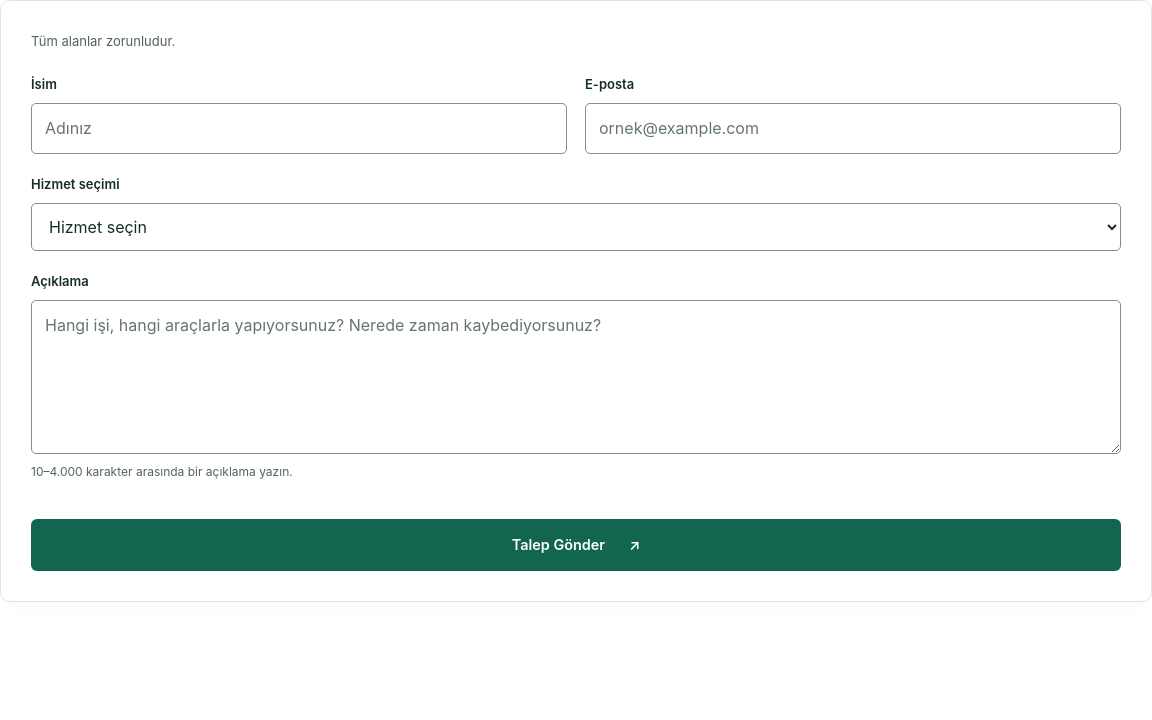
Test: Request form API integration (mocked fetch) › falls back to a general error for unmatched/malformed 400 responses
Type "Sprint Five Test" into the field labelled "İsim" at (299, 128), box [31,103,567,154]
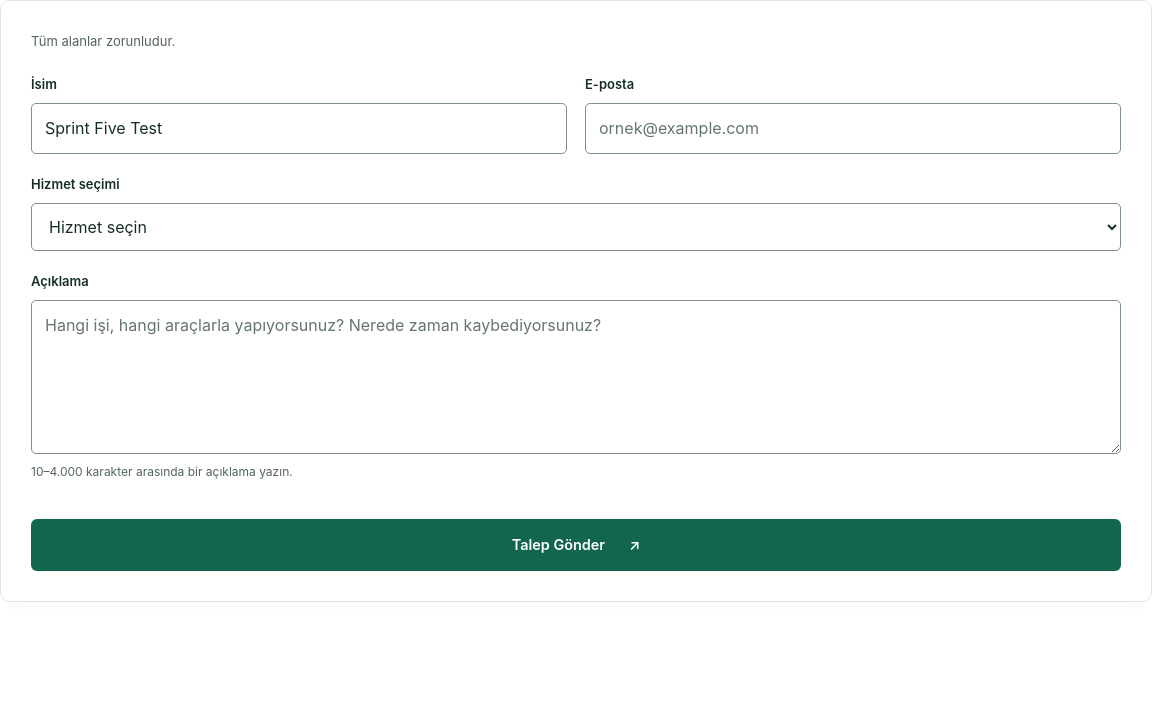
Type "sprint5@example.com" into the field labelled "E-posta" at (853, 128), box [585,103,1121,154]
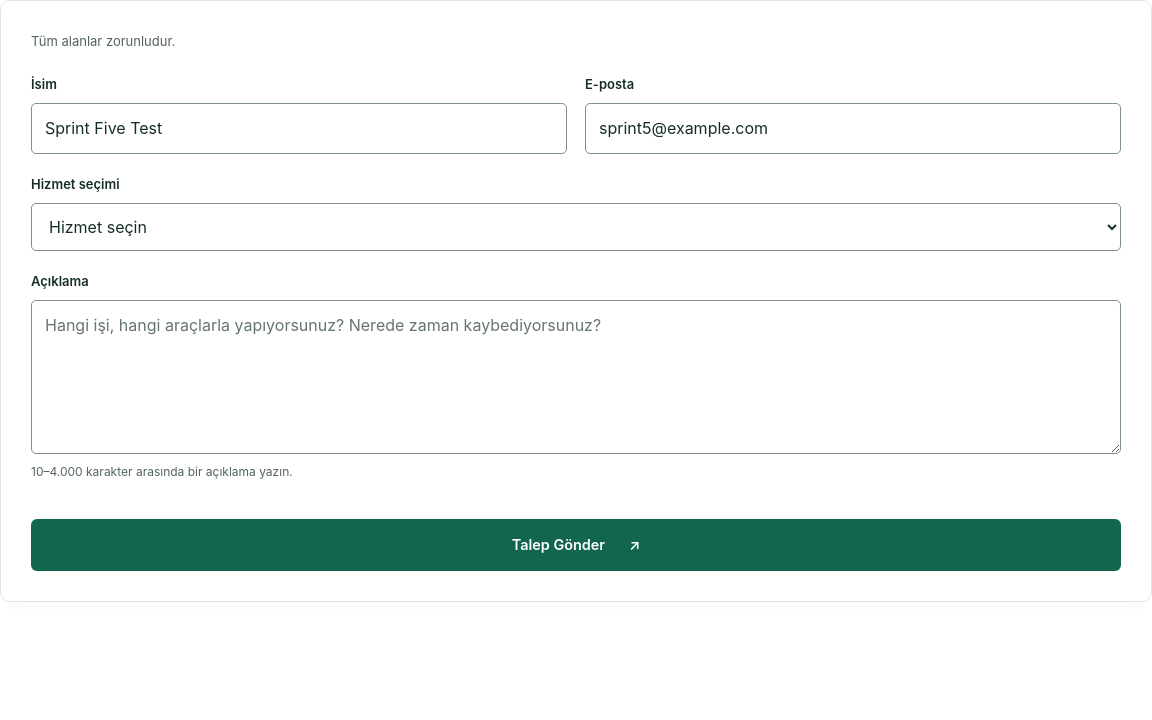
Select "İş Akışı Otomasyonu" in the dropdown labelled "Hizmet seçimi" at (576, 227), box [31,203,1121,251]
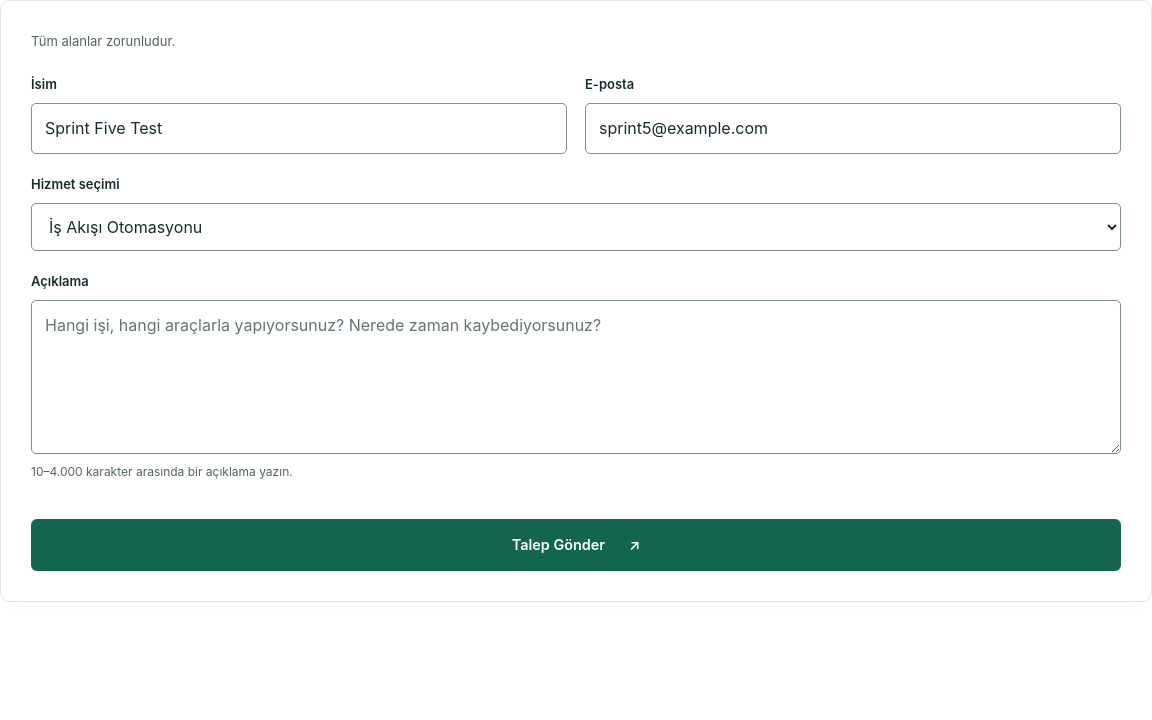
Replace the text in the text box labelled "Açıklama" with "This is a fictional request created for the FlowPilot technical evaluation." at (576, 377), box [31,300,1121,454]
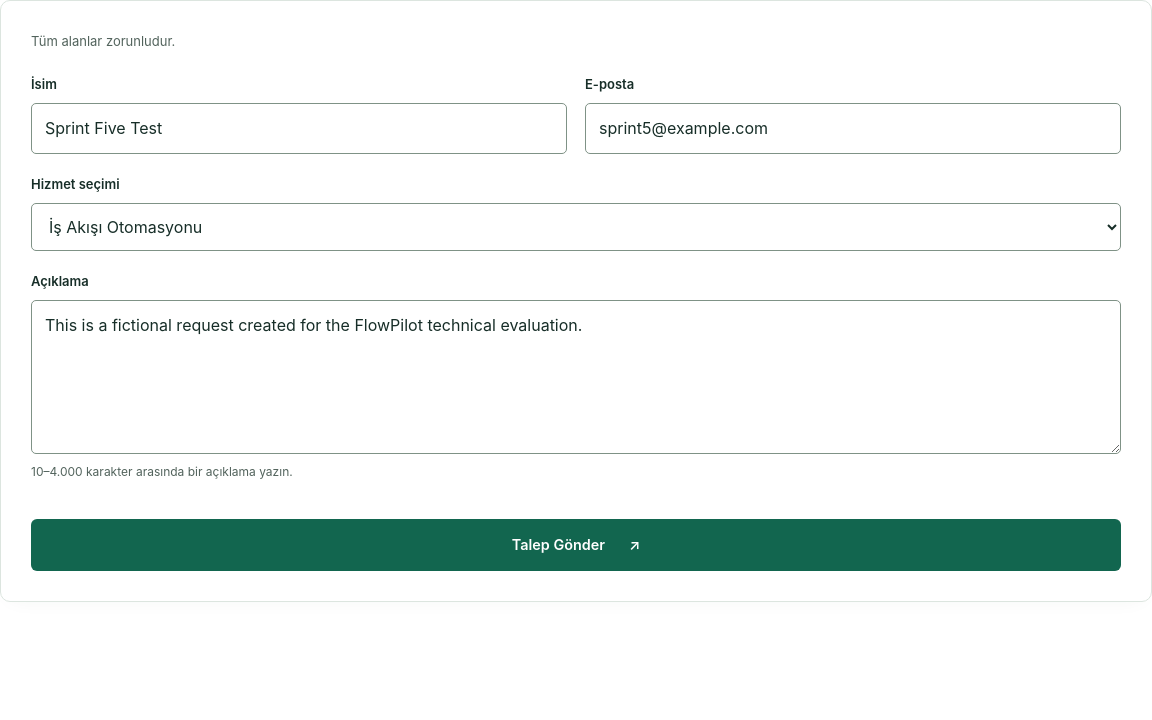
Click the button "Talep Gönder ↗" at (576, 545), box [31,519,1121,571]
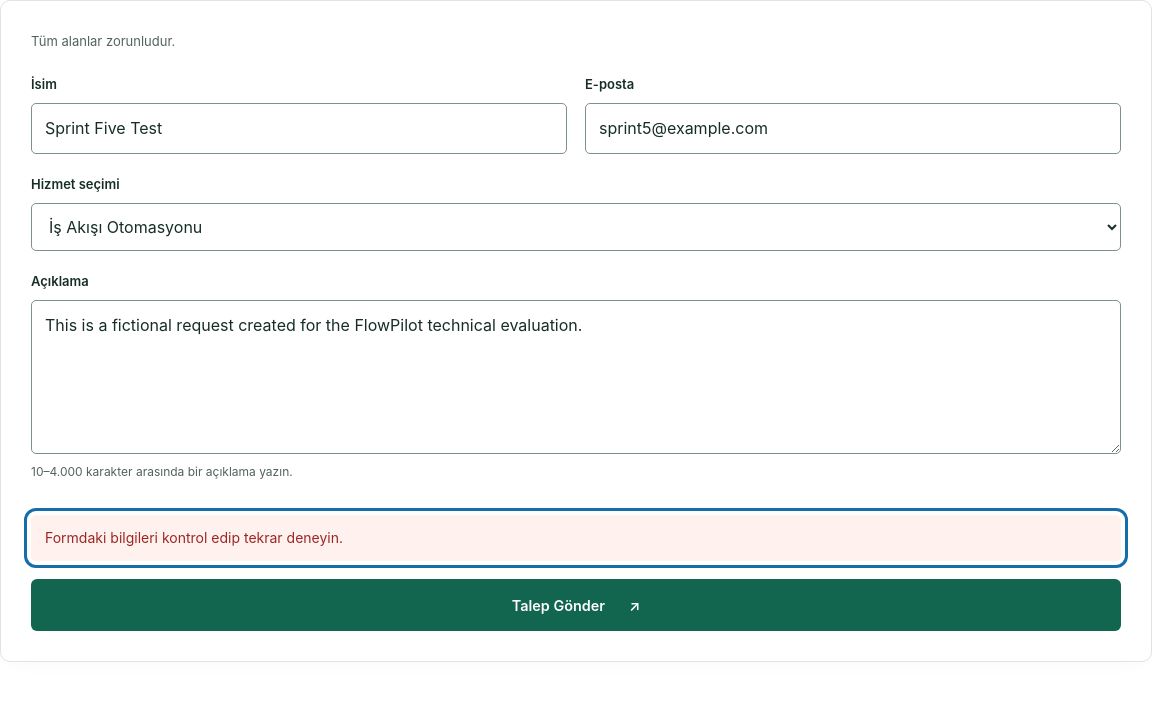
Check: the message reads "Formdaki bilgileri kontrol edip tekrar deneyin.", box [45,529,343,546]
